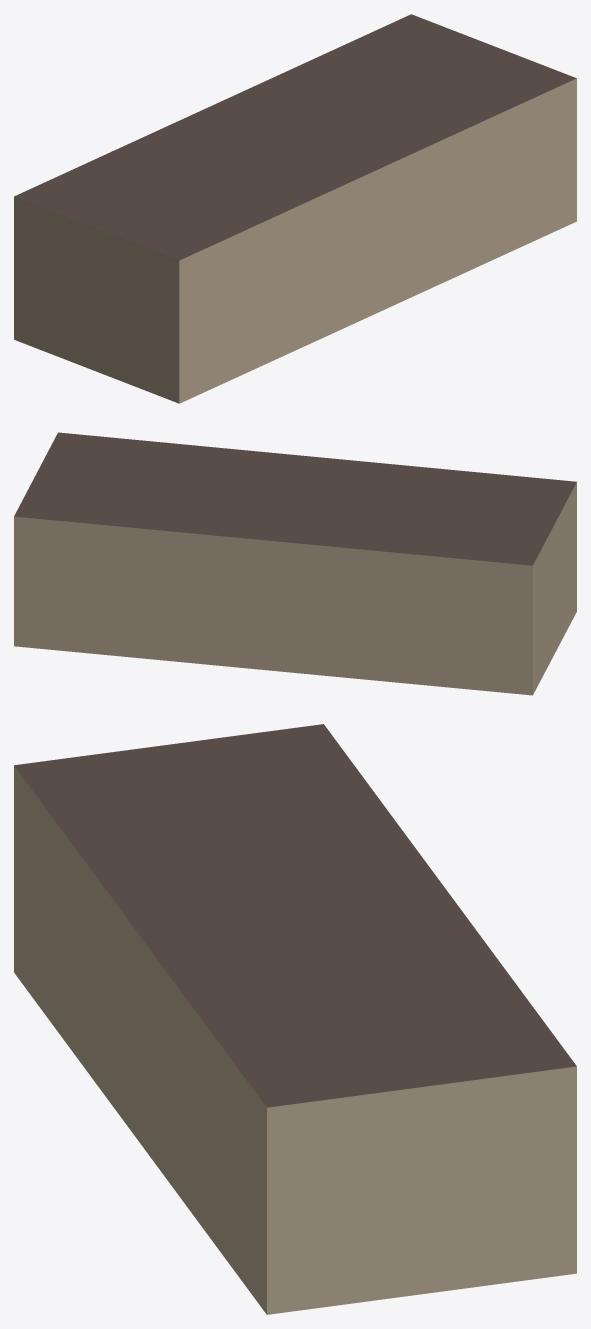
The picture shows the model from 3 angles, top to bottom: view 1: azimuth 30°, elevation 25°; view 2: azimuth 150°, elevation 25°; view 3: azimuth 270°, elevation 25°; orthographic projection. The views are drawn at different scales.
Parts seen in each view (by area): view 1: HP-w757498887; view 2: HP-w757498887; view 3: HP-w757498887.
Boxes of the visible parts, box(x1,y1,x2,y2) form: HP-w757498887: box(14, 14, 576, 403); HP-w757498887: box(14, 432, 576, 695); HP-w757498887: box(14, 724, 576, 1314).
Bounding box in the file's own units: 35.74 × 9 × 22.16.
